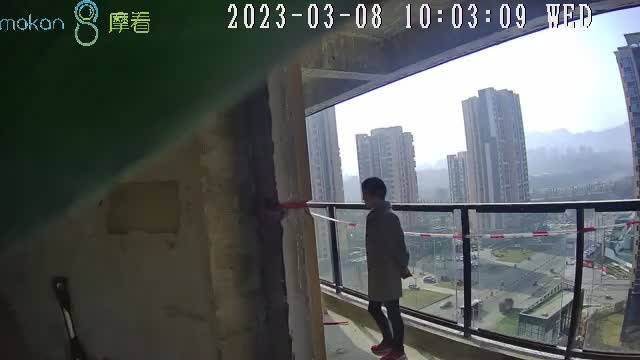people: (359, 177, 410, 360)
window: (304, 109, 638, 360)
